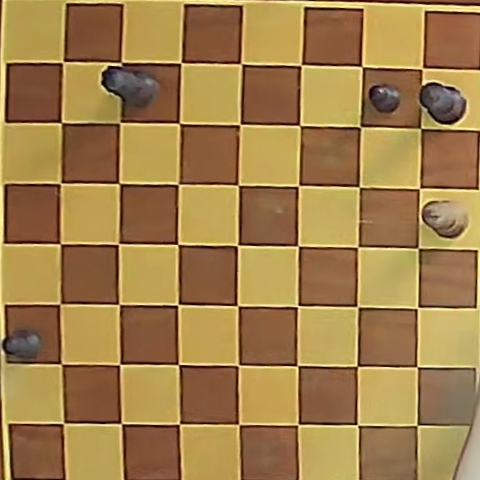black-king: (419, 82, 466, 125)
black-pawn: (3, 331, 42, 360), (369, 83, 402, 113)
black-queen: (103, 66, 160, 109)
white-king: (422, 200, 468, 238)
